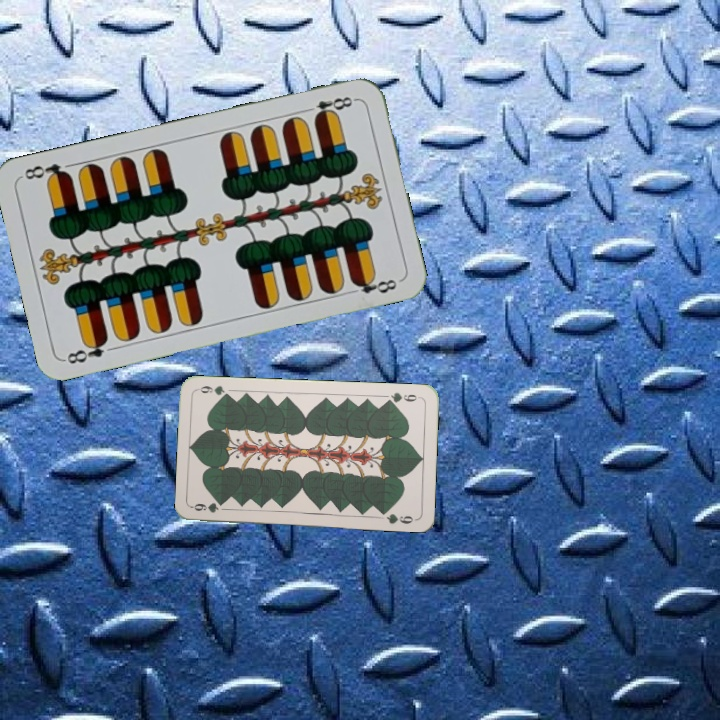E8: (301, 92, 359, 122), (61, 334, 111, 367)
G9: (382, 388, 423, 406), (189, 499, 221, 515)
